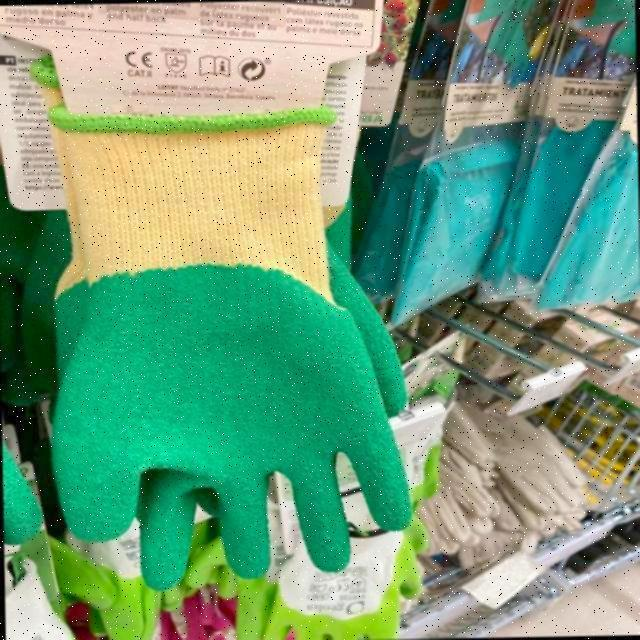Gloves: (38, 96, 423, 572)
